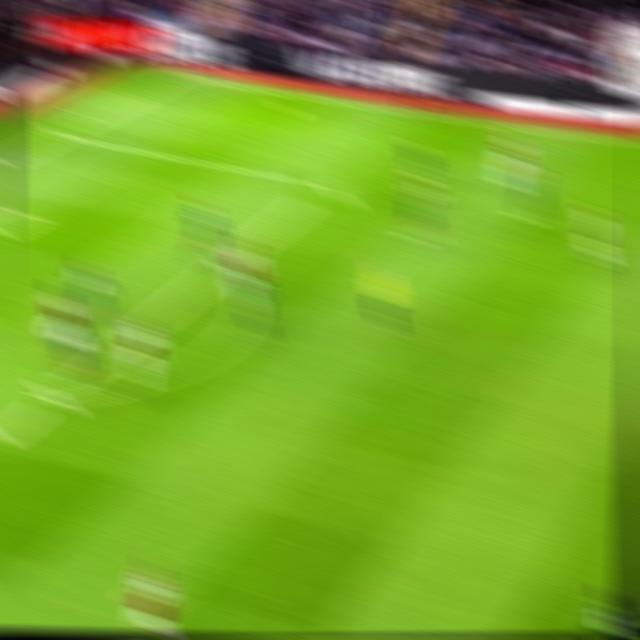bigarea_top_inner: (300, 164, 354, 207)
bigarea_top_outter: (42, 116, 77, 155)
bottom_arc_area_intersection: (34, 379, 76, 421)
corner: (162, 63, 194, 89)
smallarea_top_inner: (14, 197, 51, 234)
top_arc_area_intersection: (205, 250, 242, 283)
